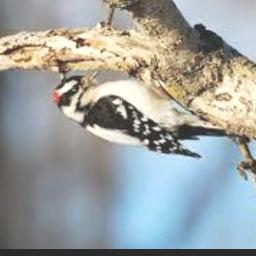Woodpecker: (55, 69, 250, 157)
